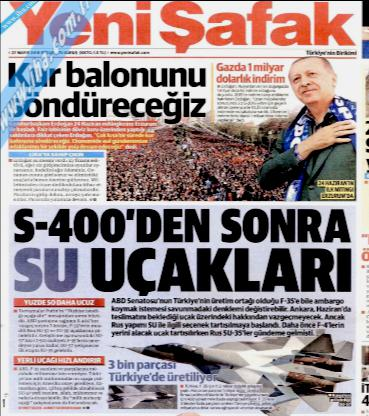F22: (105, 384, 176, 406)
SR71: (106, 319, 354, 415)
